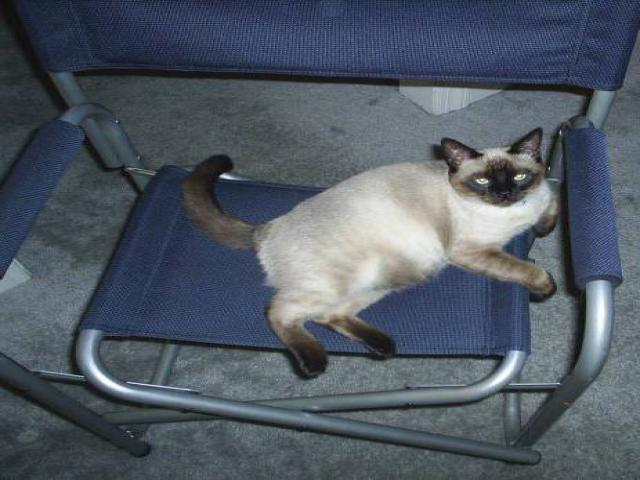cat: (181, 122, 572, 372)
